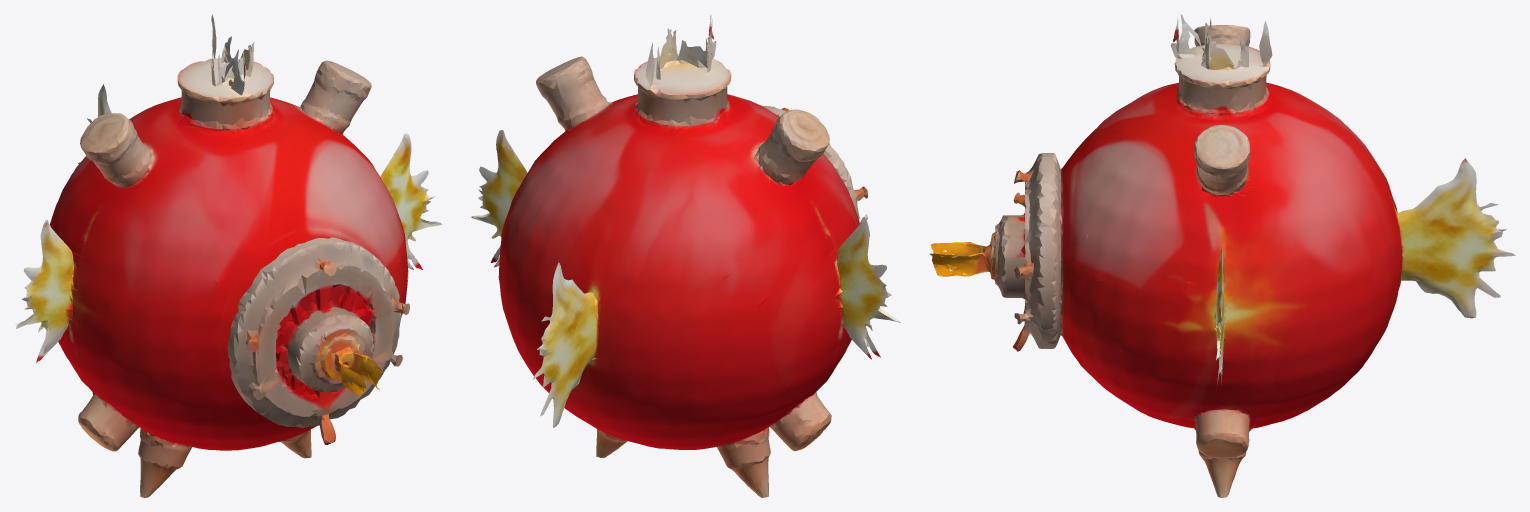
Rendered from time_bomb.glb.
The picture shows the model from 3 angles, left to right: view 1: azimuth 30°, elevation 25°; view 2: azimuth 150°, elevation 25°; view 3: azimuth 270°, elevation 25°; orthographic projection.
Visible parts, largest first — view 1: time_bomb; view 2: time_bomb; view 3: time_bomb.
Boxes of the visible parts, left/top/right/bottom form: time_bomb: left=15, top=14, right=442, bottom=497; time_bomb: left=471, top=15, right=900, bottom=497; time_bomb: left=929, top=14, right=1515, bottom=497.
Size of the model in its own units: 1.57 by 1.57 by 1.89.
Materials: 1 (1 with a texture image).
